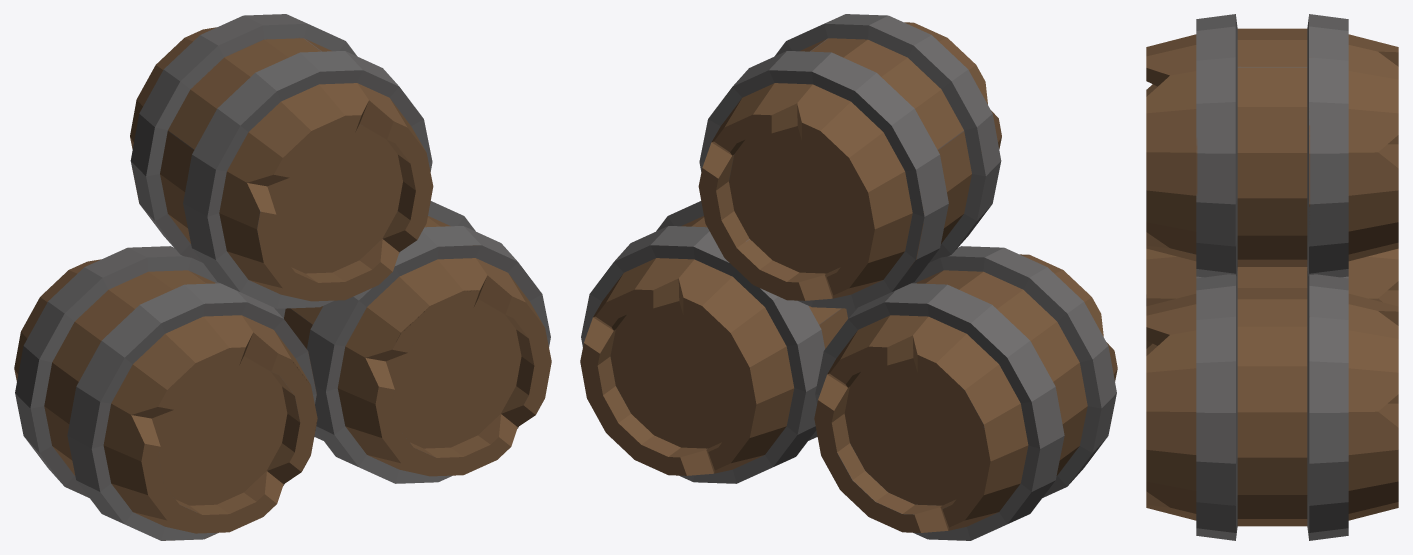
File: Barrel_02.fbx
3 renders of one model, left to right at view 1: azimuth 30°, elevation 25°; view 2: azimuth 150°, elevation 25°; view 3: azimuth 270°, elevation 25°, orthographic.
Visible parts, largest first — view 1: Cylinder.012; view 2: Cylinder.012; view 3: Cylinder.012.
Boxes of the visible parts, <box> form: Cylinder.012: <box>14,14,551,540</box>; Cylinder.012: <box>580,14,1117,540</box>; Cylinder.012: <box>1146,14,1398,540</box>.
Bounding box in the file's own units: 170 × 156 × 80.
